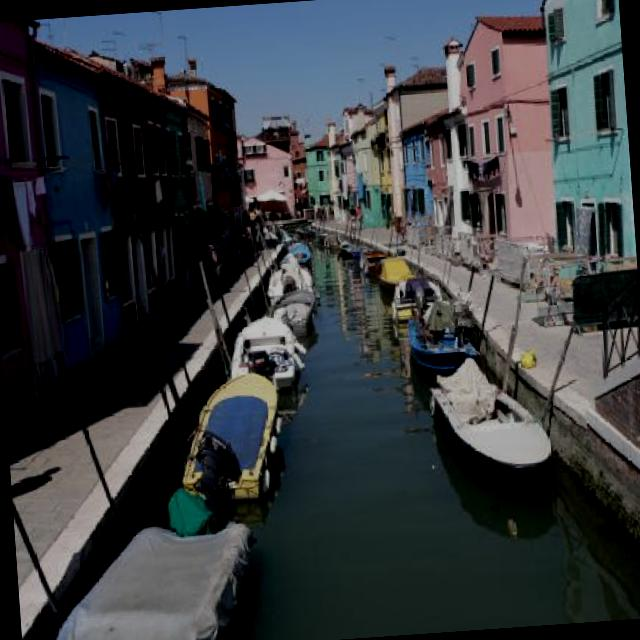Person: (196, 233, 222, 294), (215, 225, 232, 266), (228, 220, 242, 267), (237, 223, 252, 262), (348, 204, 357, 232), (354, 202, 363, 227)
